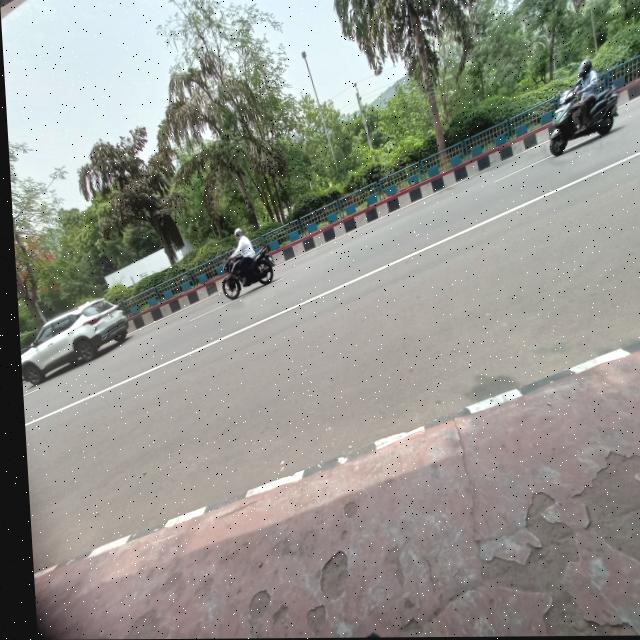bike: (543, 91, 615, 158), (215, 255, 280, 301)
car: (14, 303, 139, 381)
